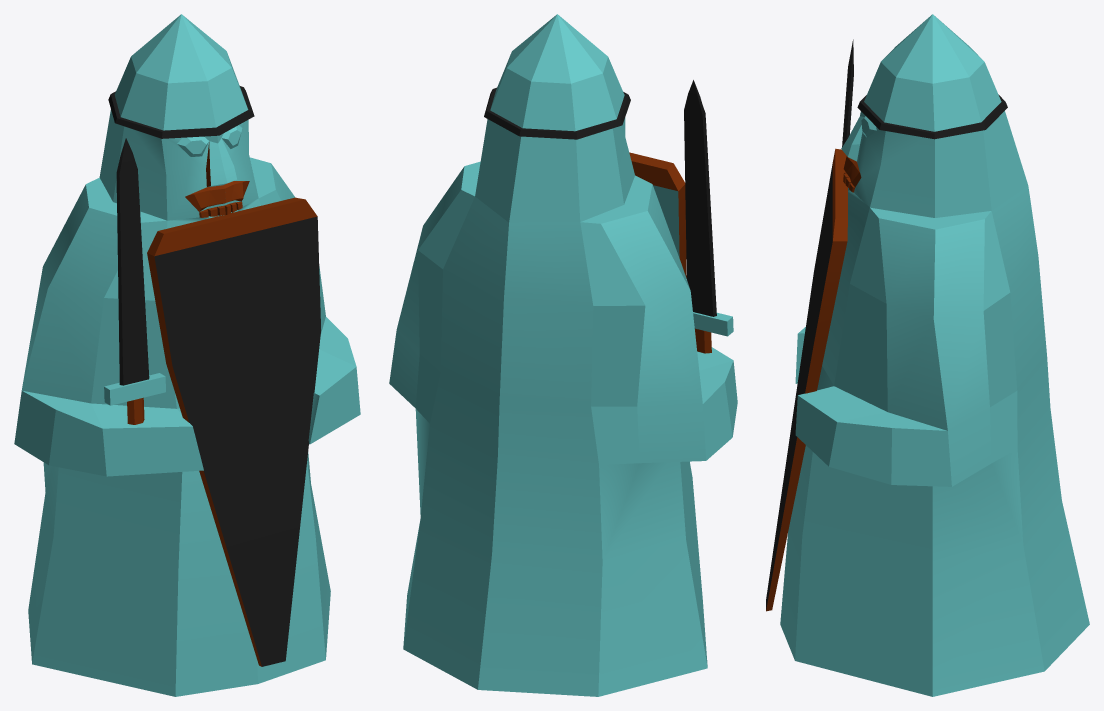
The model's file is VikingRook.fbx.
3 views of the same model, side by side, from view 1: azimuth 30°, elevation 25°; view 2: azimuth 150°, elevation 25°; view 3: azimuth 270°, elevation 25° (orthographic).
Parts seen in each view (by area): view 1: Rook; view 2: Rook; view 3: Rook.
Boxes of the visible parts, x1=… form: Rook: x1=14, y1=14, x2=360, y2=696; Rook: x1=389, y1=14, x2=737, y2=696; Rook: x1=766, y1=14, x2=1089, y2=696.
Size of the model in its own units: 2.6 by 4.85 by 2.33.
